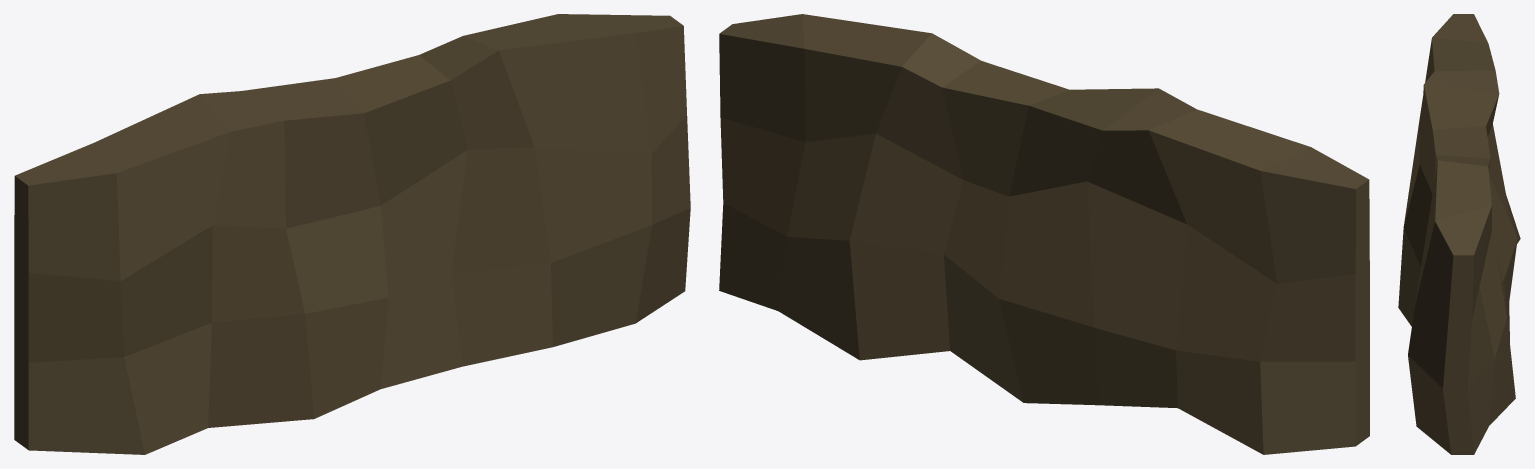
The model's file is SmallWall.1.fbx.
The picture shows the model from 3 angles, left to right: view 1: azimuth 30°, elevation 25°; view 2: azimuth 150°, elevation 25°; view 3: azimuth 270°, elevation 25°; orthographic projection. The views are drawn at different scales.
Parts seen in each view (by area): view 1: Small_Wall.1; view 2: Small_Wall.1; view 3: Small_Wall.1.
Part boxes in pixels (box(x1,y1,x2,y2)): Small_Wall.1: box(14, 14, 690, 454); Small_Wall.1: box(719, 14, 1369, 454); Small_Wall.1: box(1398, 14, 1520, 454).
Bounding box in the file's own units: 1299 × 589 × 278.
